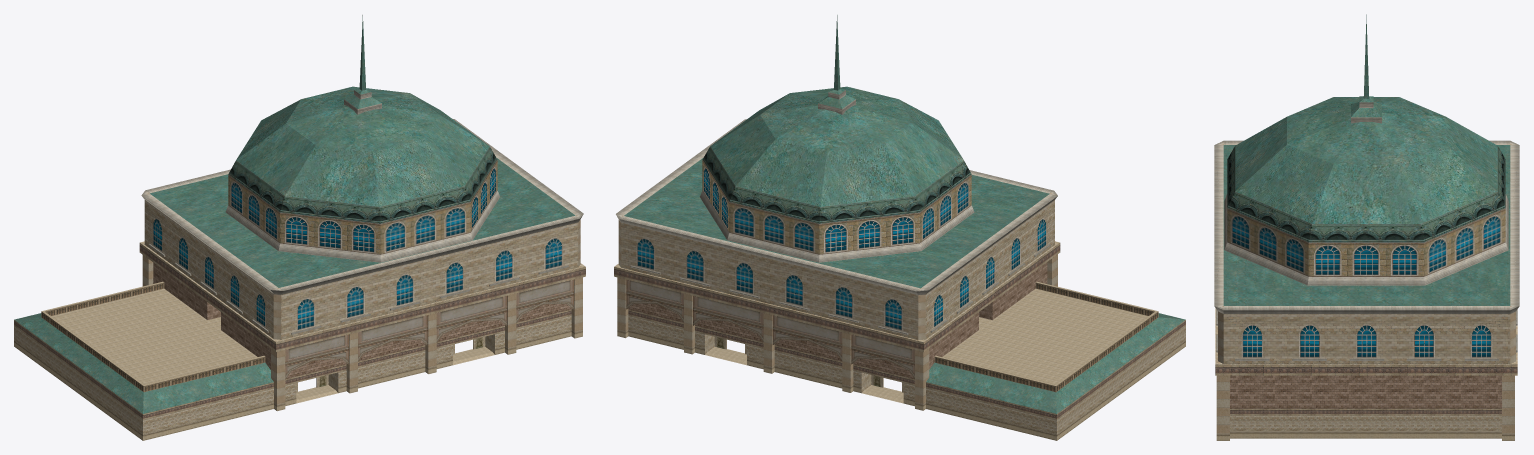
The model's file is mun_nboo_hospital_s01_r0_mesh_l1.fbx.
3 renders of one model, left to right at view 1: azimuth 30°, elevation 25°; view 2: azimuth 150°, elevation 25°; view 3: azimuth 270°, elevation 25°, orthographic. The views are drawn at different scales.
Visible parts, largest first — view 1: mesh_node; view 2: mesh_node; view 3: mesh_node.
Part boxes in pixels (x1,y1,x2,y2): mesh_node: [14, 15, 585, 440]; mesh_node: [614, 15, 1185, 440]; mesh_node: [1214, 14, 1519, 440].
Size of the model in its own units: 94.25 by 63.41 by 51.01.
